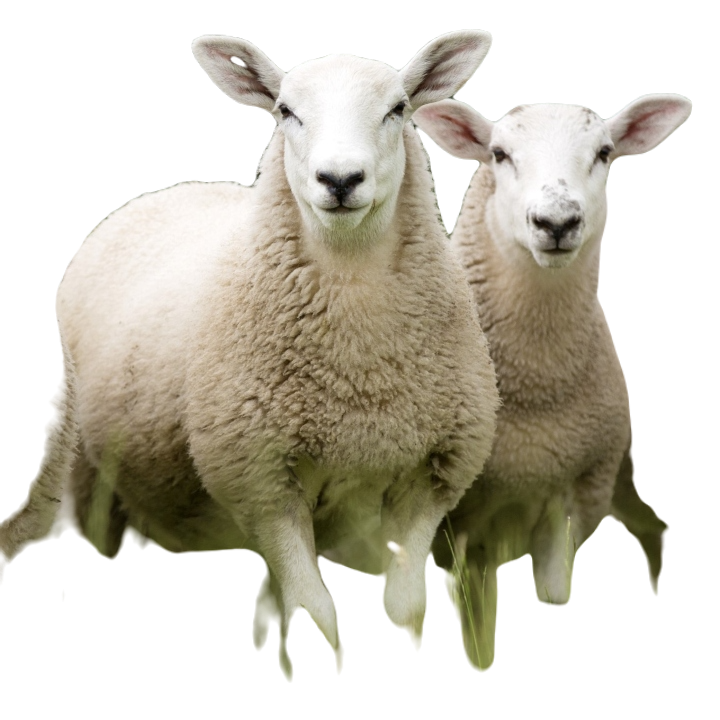Sheep: (0, 25, 502, 698), (406, 77, 694, 672)
